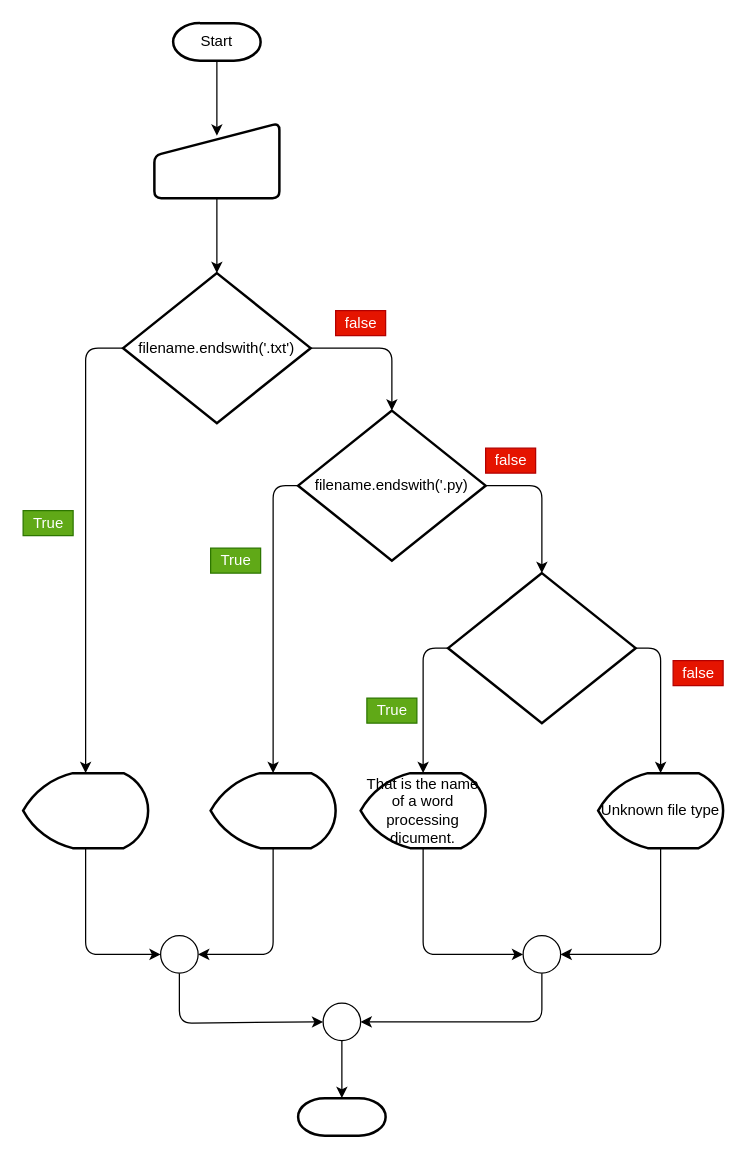
This 745x1158 diagram has some shape labels left out. The shapes that lost their labels are listed below. From the top down, each one's centre as x and y in pixels, then its label:
At [216,160]: "filename".
At [541,647]: "filename.endswith('.doc)".
At [85,810]: "Thast is the name of a text file".
At [272,810]: "That is the name of a Python source file".
At [341,1116]: "End".
